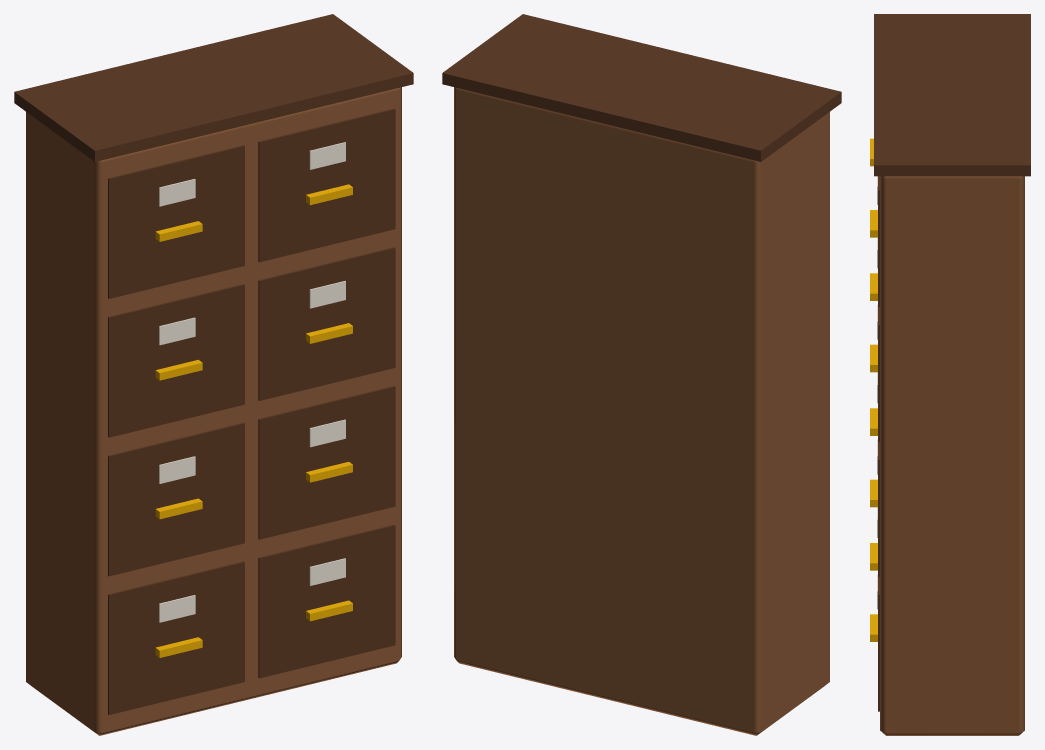
The model's file is station_processing_ausstattung_2_3.glb.
The picture shows the model from 3 angles, left to right: view 1: azimuth 30°, elevation 25°; view 2: azimuth 150°, elevation 25°; view 3: azimuth 270°, elevation 25°; orthographic projection. The views are drawn at different scales.
Visible parts, largest first — view 1: station_processing_ausstattung_2_3; view 2: station_processing_ausstattung_2_3; view 3: station_processing_ausstattung_2_3.
Part boxes in pixels (x1,y1,x2,y2): station_processing_ausstattung_2_3: [14, 14, 413, 735]; station_processing_ausstattung_2_3: [442, 14, 841, 735]; station_processing_ausstattung_2_3: [870, 14, 1030, 735].
Bounding box in the file's own units: 0.89 × 1.58 × 0.4.
